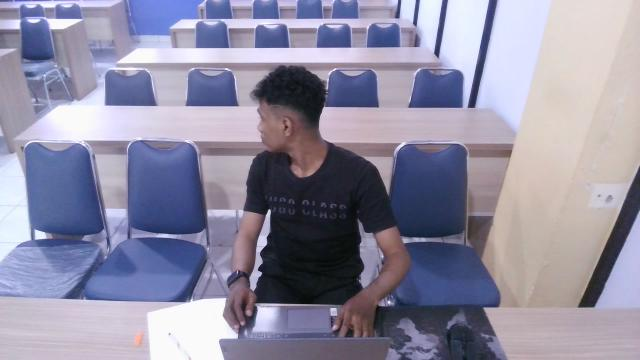Turning_Back: (217, 53, 406, 257)
